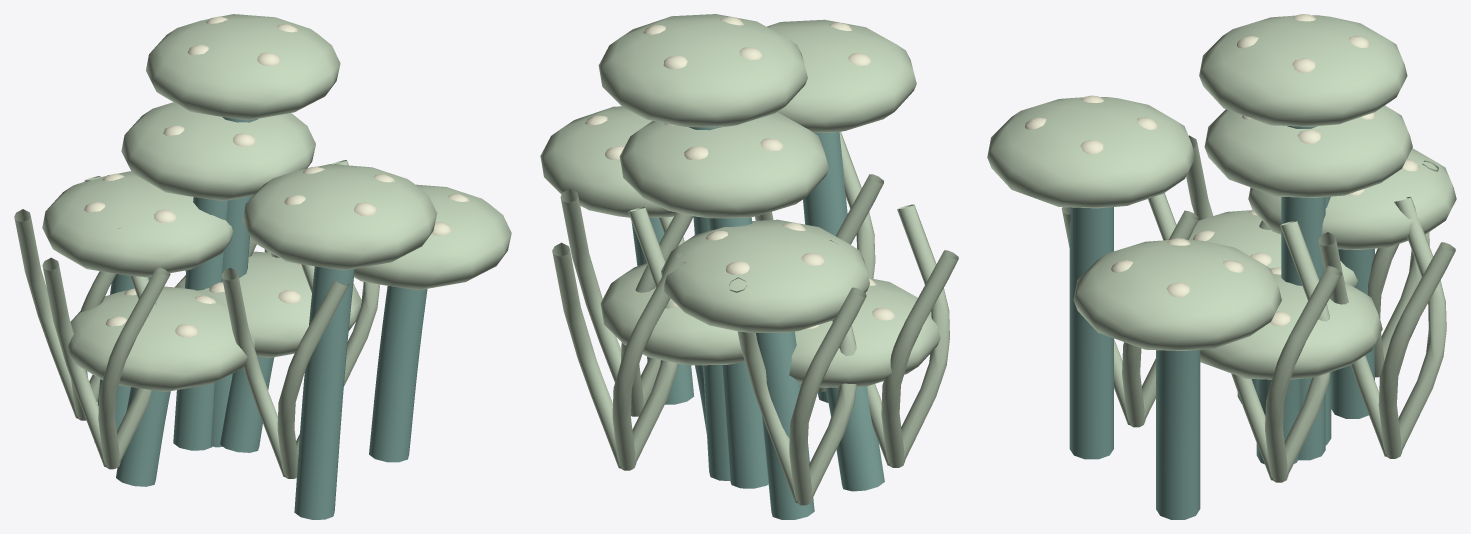
File: bio_spore_fungus_09_far.glb
3 renders of one model, left to right at view 1: azimuth 30°, elevation 25°; view 2: azimuth 150°, elevation 25°; view 3: azimuth 270°, elevation 25°, orthographic. The views are drawn at different scales.
Parts seen in each view (by area): view 1: Thick umbrella cap.003, Thick umbrella cap.002, Thick umbrella cap.001, Thick umbrella cap.006, Thick umbrella cap.004, Curved stipe.002, Thick umbrella cap.005, Spiral filament.012, Curved stipe.005, Spiral filament.006, Thick umbrella cap, Spiral filament.003 (+9 smaller); view 2: Thick umbrella cap.003, Thick umbrella cap.001, Thick umbrella cap.006, Thick umbrella cap.002, Spiral filament.009, Spiral filament.003, Spiral filament.012, Thick umbrella cap.005, Thick umbrella cap.004, Thick umbrella cap, Spiral filament, Curved stipe.006 (+9 smaller); view 3: Thick umbrella cap.003, Thick umbrella cap.005, Thick umbrella cap.002, Thick umbrella cap.006, Spiral filament.009, Curved stipe.002, Thick umbrella cap, Spiral filament, Thick umbrella cap.001, Curved stipe.005, Spiral filament.006, Curved stipe.003 (+8 smaller).
Part boxes in pixels (left/top/right/bottom): Thick umbrella cap.003: left=146, top=14, right=340, bottom=120; Thick umbrella cap.002: left=242, top=164, right=437, bottom=270; Thick umbrella cap.001: left=42, top=171, right=232, bottom=277; Thick umbrella cap.006: left=121, top=102, right=315, bottom=201; Thick umbrella cap.004: left=67, top=286, right=255, bottom=391; Curved stipe.002: left=294, top=266, right=354, bottom=519; Thick umbrella cap.005: left=354, top=184, right=511, bottom=290; Spiral filament.012: left=42, top=225, right=170, bottom=469; Curved stipe.005: left=369, top=286, right=427, bottom=462; Spiral filament.006: left=221, top=264, right=349, bottom=478; Thick umbrella cap: left=175, top=251, right=361, bottom=357; Spiral filament.003: left=14, top=176, right=116, bottom=420; Thick umbrella cap.003: left=598, top=14, right=807, bottom=127; Thick umbrella cap.001: left=661, top=219, right=869, bottom=333; Thick umbrella cap.006: left=619, top=112, right=828, bottom=218; Thick umbrella cap.002: left=767, top=19, right=916, bottom=132; Spiral filament.009: left=552, top=207, right=686, bottom=470; Spiral filament.003: left=729, top=277, right=866, bottom=505; Spiral filament.012: left=830, top=204, right=958, bottom=467; Thick umbrella cap.005: left=540, top=106, right=675, bottom=217; Thick umbrella cap.004: left=789, top=278, right=940, bottom=387; Thick umbrella cap: left=600, top=263, right=744, bottom=365; Spiral filament: left=560, top=189, right=693, bottom=416; Curved stipe.006: left=709, top=217, right=768, bottom=488; Thick umbrella cap.003: left=1199, top=15, right=1407, bottom=126; Thick umbrella cap.005: left=1073, top=239, right=1281, bottom=350; Thick umbrella cap.002: left=987, top=97, right=1195, bottom=208; Thick umbrella cap.006: left=1204, top=105, right=1412, bottom=197; Spiral filament.009: left=1318, top=197, right=1455, bottom=458; Curved stipe.002: left=1069, top=207, right=1113, bottom=459; Thick umbrella cap: left=1200, top=273, right=1382, bottom=379; Spiral filament: left=1231, top=220, right=1341, bottom=482; Thick umbrella cap.001: left=1248, top=148, right=1456, bottom=249; Curved stipe.005: left=1156, top=350, right=1200, bottom=519; Spiral filament.006: left=1061, top=193, right=1198, bottom=427; Curved stipe.003: left=1281, top=126, right=1325, bottom=460.
Bounding box in the file's own units: 1.97 × 1.82 × 1.8.
